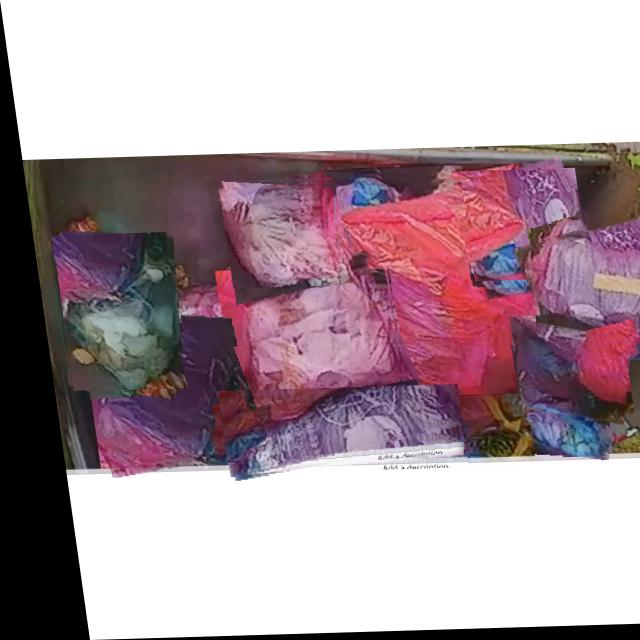other_trashbag: (334, 184, 530, 398), (237, 261, 392, 433), (77, 320, 219, 468), (214, 388, 450, 477), (56, 241, 171, 390), (216, 180, 334, 289), (466, 173, 573, 283), (520, 243, 640, 341), (501, 321, 607, 424), (519, 409, 594, 459), (165, 289, 226, 347)
